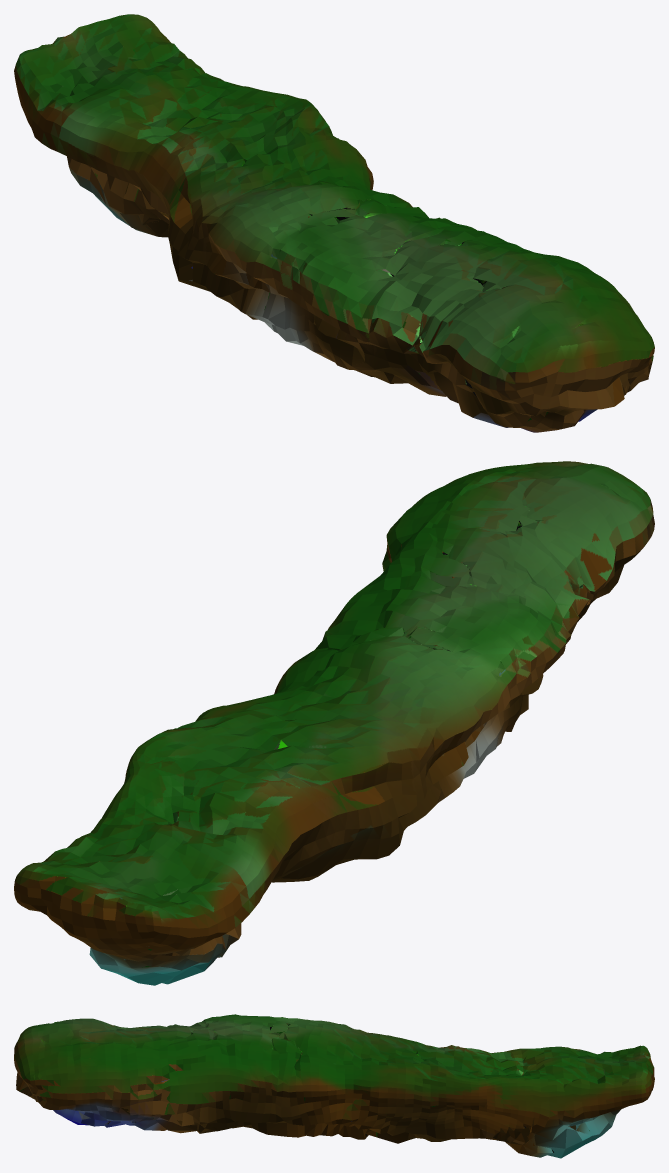
Rendered from walkway1-32.fbx.
3 renders of one model, top to bottom at view 1: azimuth 30°, elevation 25°; view 2: azimuth 150°, elevation 25°; view 3: azimuth 270°, elevation 25°, orthographic. The views are drawn at different scales.
Visible parts, largest first — view 1: Walkway; view 2: Walkway; view 3: Walkway.
Part boxes in pixels (x1=…): Walkway: x1=14, y1=14, x2=654, y2=432; Walkway: x1=14, y1=461, x2=654, y2=985; Walkway: x1=14, y1=1014, x2=654, y2=1158.
Size of the model in its own units: 1077 by 909 by 4061.
1 material, 1 textured.
